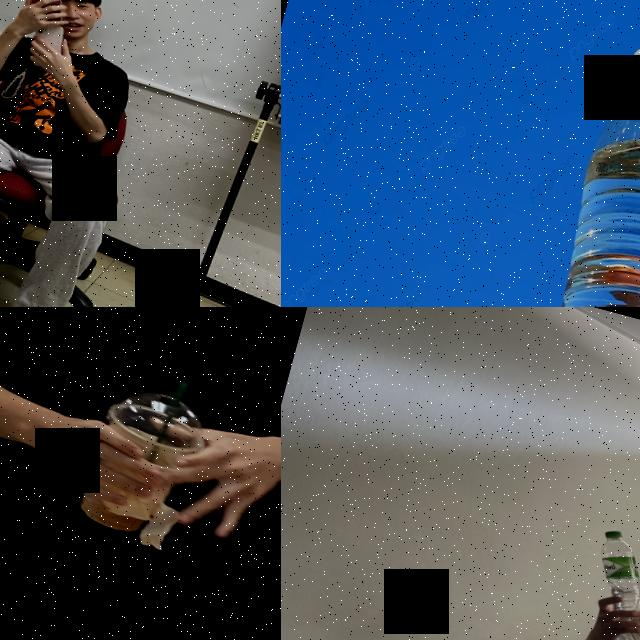bottle: (497, 34, 640, 307), (583, 526, 640, 629)
cup: (74, 380, 218, 551)
